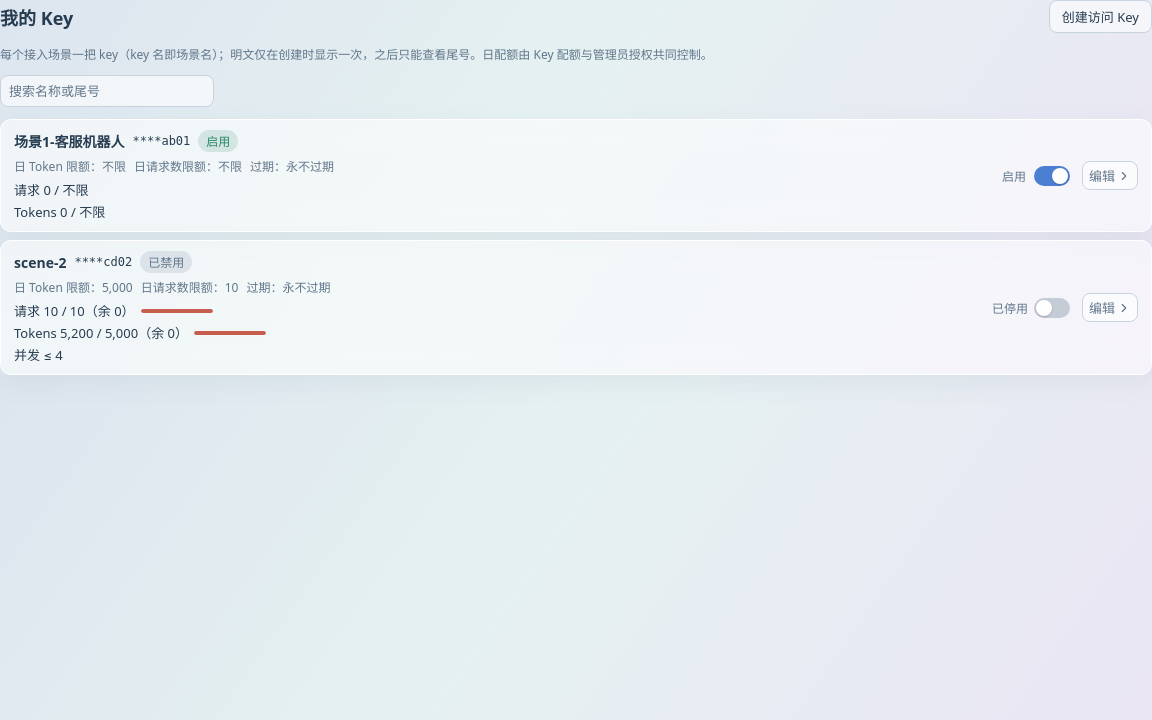
it: MyKeysPanel (multi-user 07; 打磨轮对齐 Key 管理) › filters by name/hint search with two empty states
Expected: the text "场景1-客服机器人" is shown, [14, 131, 124, 151]
Step 1. Type "客服" into the search field named "搜索 Key" → (107, 91), box [0, 75, 214, 107]
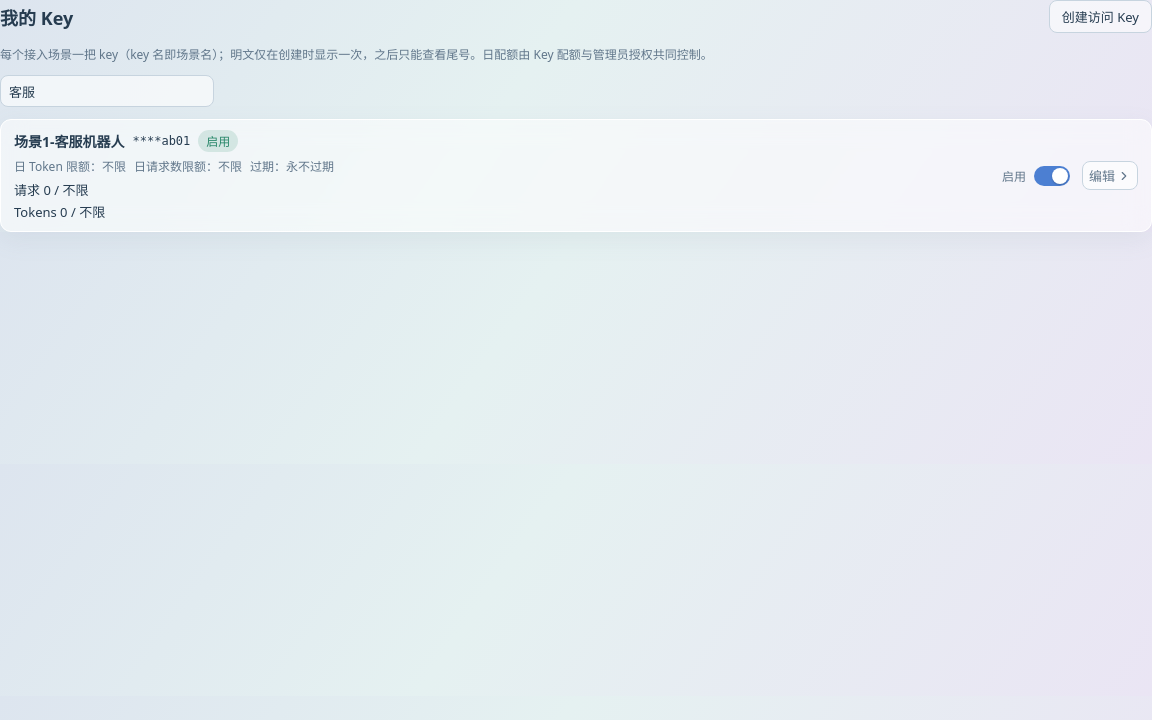
Expected: the text "场景1-客服机器人" is shown, [14, 131, 124, 151]
Expected: the text "scene-2" is gone
Step 2. Replace the text in the search field named "搜索 Key" with "cd02" → (107, 91), box [0, 75, 214, 107]
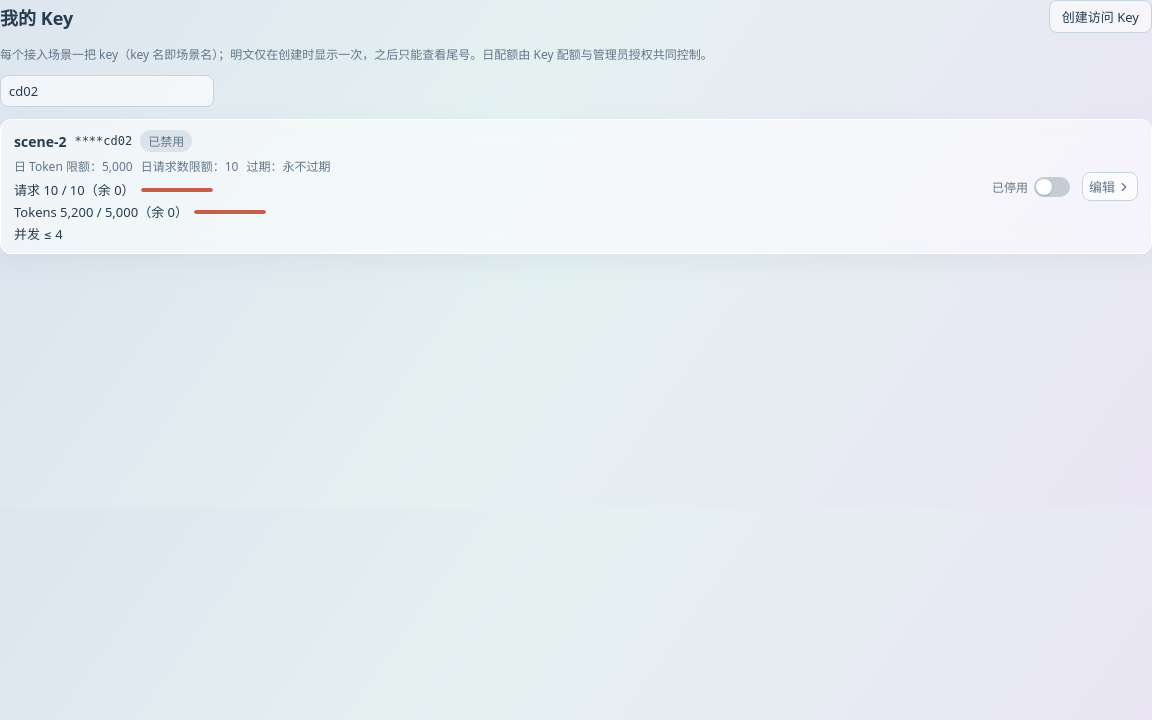
Expected: the text "scene-2" is shown, [14, 132, 66, 150]
Expected: the text "场景1-客服机器人" is gone
无匹配 → 筛选态空态（区别于真没数据）。
Step 3. Replace the text in the search field named "搜索 Key" with "zzz" → (107, 91), box [0, 75, 214, 107]
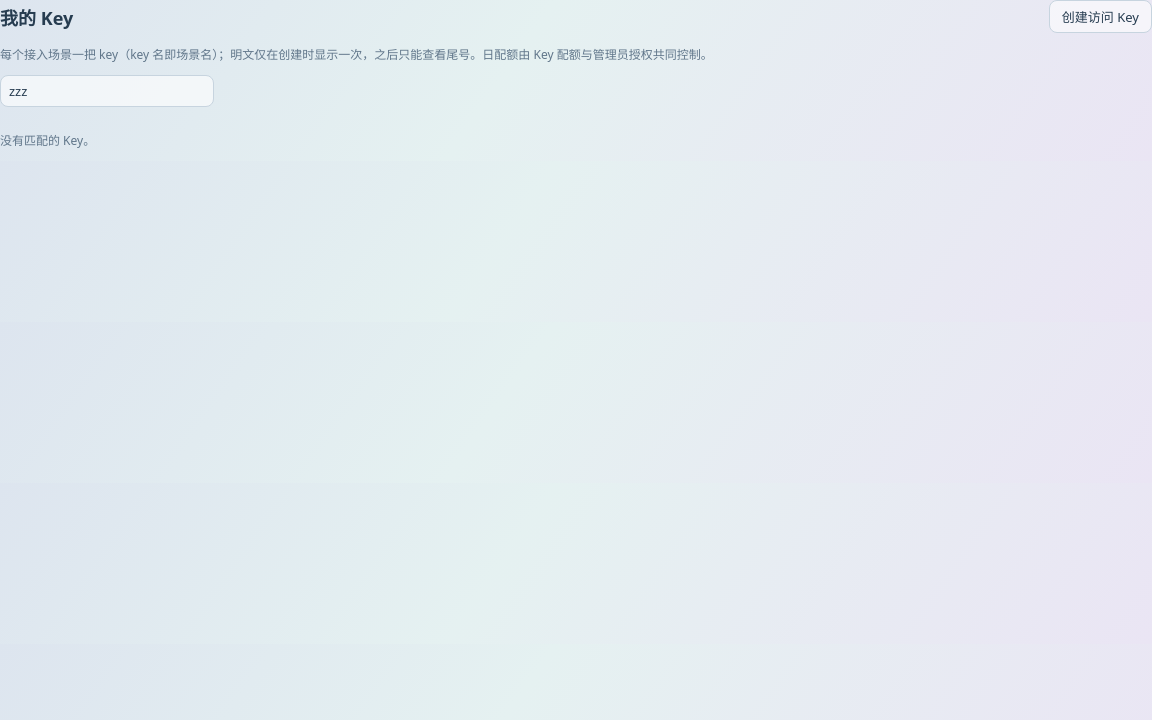
Expected: the text "没有匹配的 Key。" is shown, [0, 132, 95, 149]
